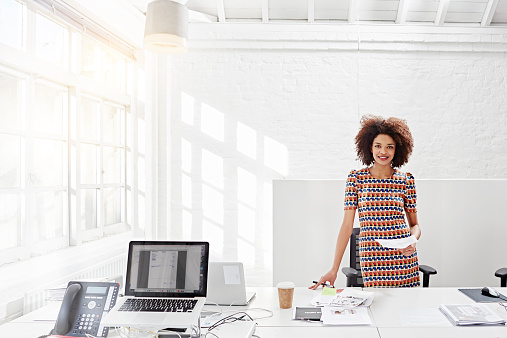em pe: (307, 111, 427, 290)
